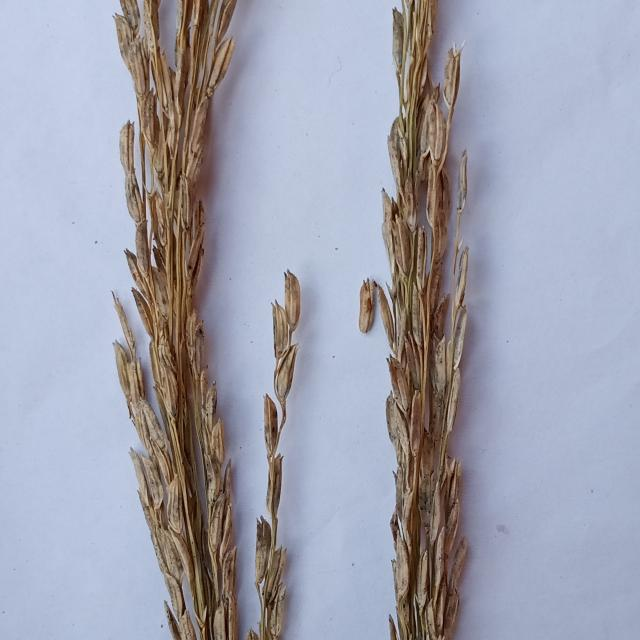Neck_Blast: (96, 0, 293, 636), (362, 8, 479, 640)
